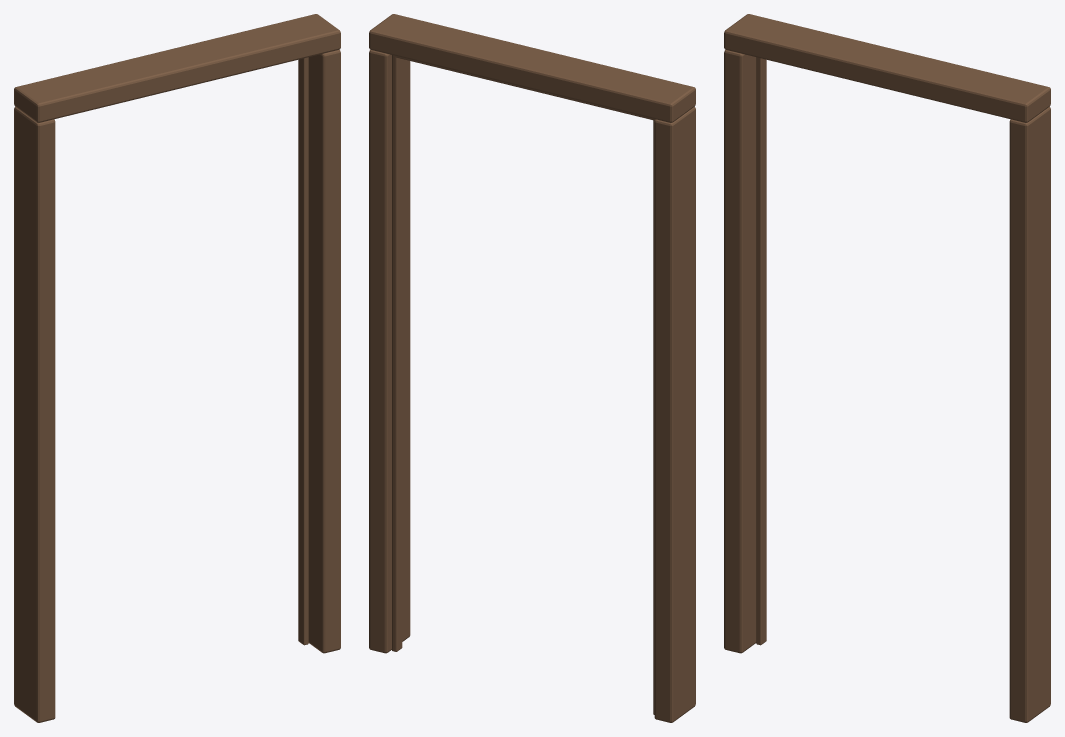
The model's file is door_frame.glb.
3 views of the same model, side by side, from view 1: azimuth 30°, elevation 25°; view 2: azimuth 150°, elevation 25°; view 3: azimuth 330°, elevation 25° (orthographic).
Visible parts, largest first — view 1: door_frame; view 2: door_frame; view 3: door_frame.
Part boxes in pixels (bbox=[...]): door_frame: bbox=[14, 14, 340, 722]; door_frame: bbox=[369, 14, 695, 722]; door_frame: bbox=[724, 14, 1050, 722].
Size of the model in its own units: 1.14 by 2.22 by 0.16.
